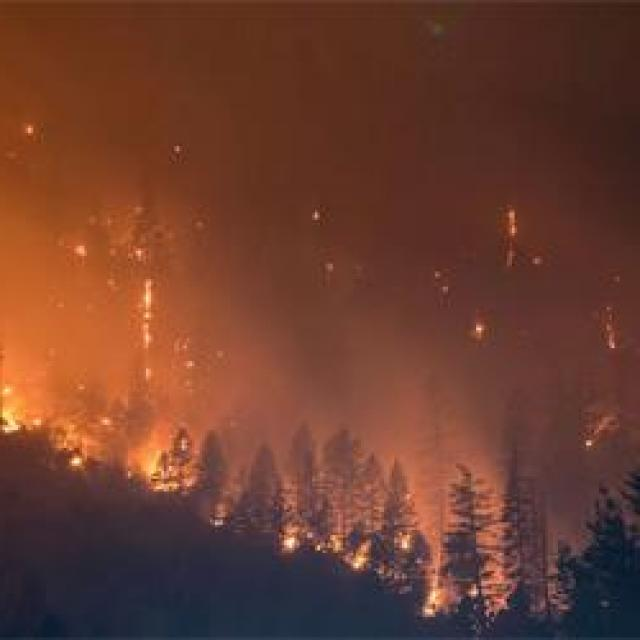fire: (134, 443, 204, 497), (268, 527, 359, 555), (335, 542, 375, 576)
